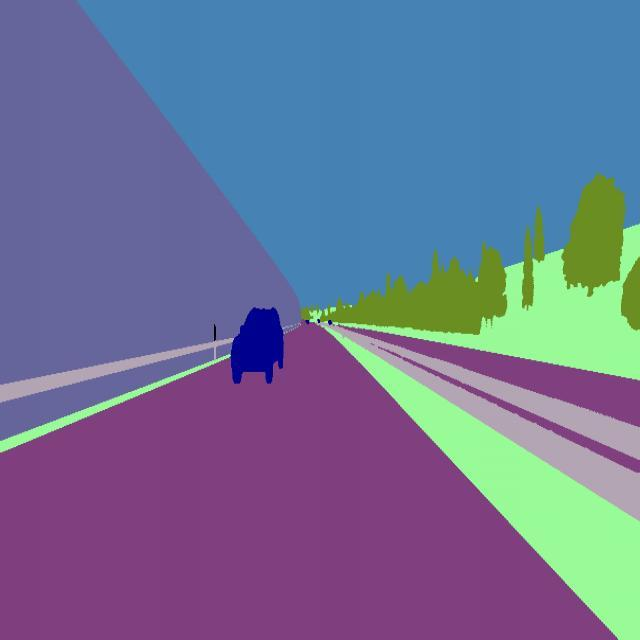safe: (227, 303, 290, 388)
